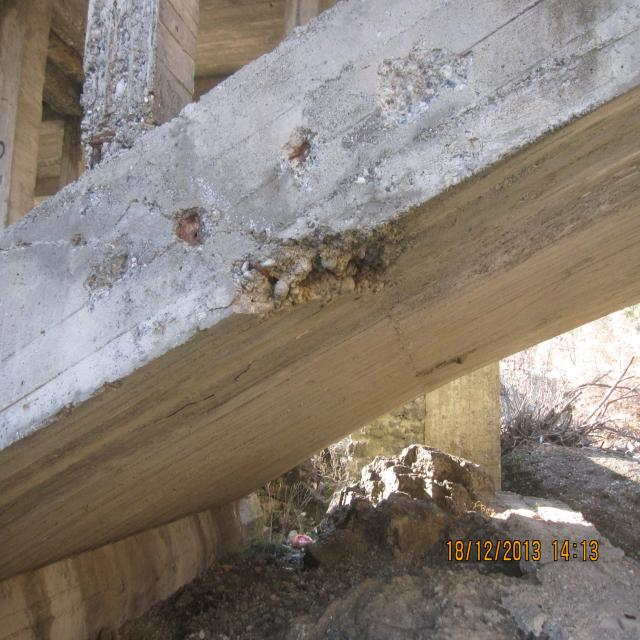corrosion: (247, 250, 390, 294), (86, 123, 131, 175), (273, 128, 319, 176), (169, 206, 209, 250)
